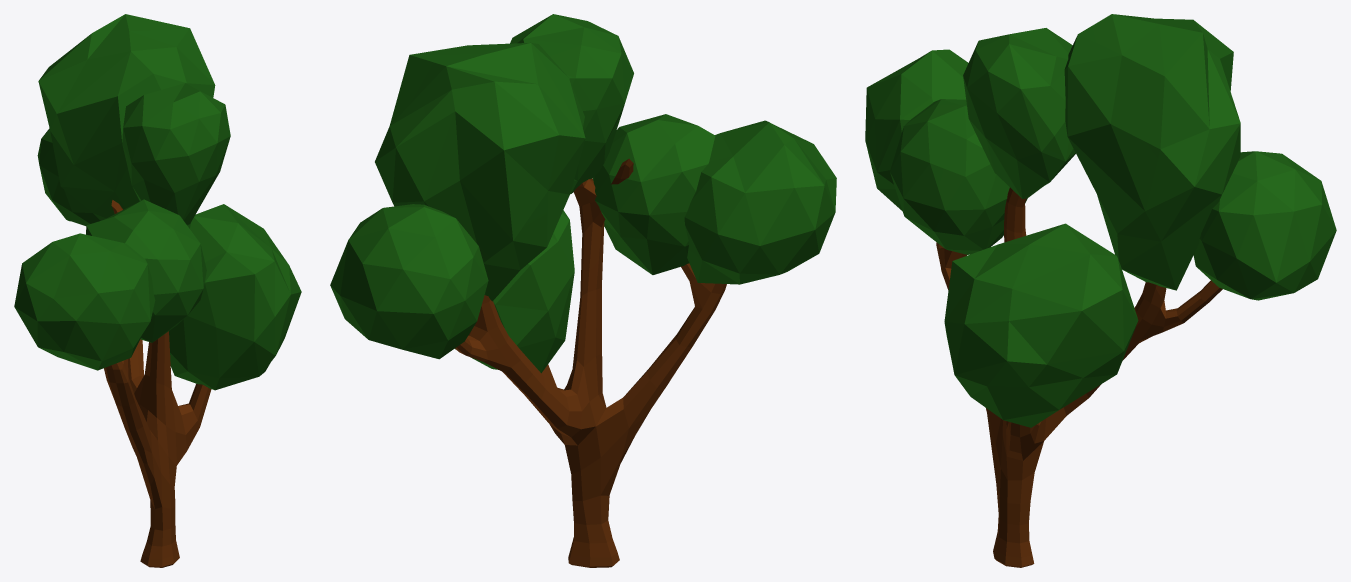
Rendered from Tree_03.FBX.
The picture shows the model from 3 angles, left to right: view 1: azimuth 30°, elevation 25°; view 2: azimuth 150°, elevation 25°; view 3: azimuth 270°, elevation 25°; orthographic projection. The views are drawn at different scales.
Parts seen in each view (by area): view 1: Leaves_4.2, Leaves_3.2, Leaves_1.2, Leaves_5.2, Leaves_2.2, Tree_3, Tree_03, Leaves_6.2; view 2: Leaves_4.2, Leaves_1.2, Leaves_6.2, Tree_03, Leaves_2.2, Tree_3, Leaves_5.2, Leaves_3.2; view 3: Leaves_4.2, Leaves_3.2, Leaves_6.2, Leaves_5.2, Leaves_2.2, Leaves_1.2, Tree_03, Tree_3.
Boxes of the visible parts, x1,y1,x2,y2 form: Leaves_4.2: (38,14,215,220); Leaves_3.2: (169,204,301,390); Leaves_1.2: (14,233,155,370); Leaves_5.2: (122,83,230,225); Leaves_2.2: (86,199,206,342); Tree_3: (134,331,179,567); Tree_03: (104,200,211,508); Leaves_6.2: (37,128,100,225); Leaves_4.2: (375,42,585,301); Leaves_1.2: (684,120,836,284); Leaves_6.2: (330,204,488,359); Tree_03: (455,158,726,495); Leaves_2.2: (592,114,715,274); Tree_3: (561,248,619,567); Leaves_5.2: (510,14,633,194); Leaves_3.2: (454,210,574,373); Leaves_4.2: (1064,14,1240,290); Leaves_3.2: (944,223,1138,427); Leaves_6.2: (1193,151,1336,300); Leaves_5.2: (963,28,1075,198); Leaves_2.2: (890,99,1027,254); Leaves_1.2: (865,49,968,210); Tree_03: (936,187,1222,482); Tree_3: (993,242,1066,567).
Bounding box in the file's own units: 7.52 × 11.16 × 8.64.
